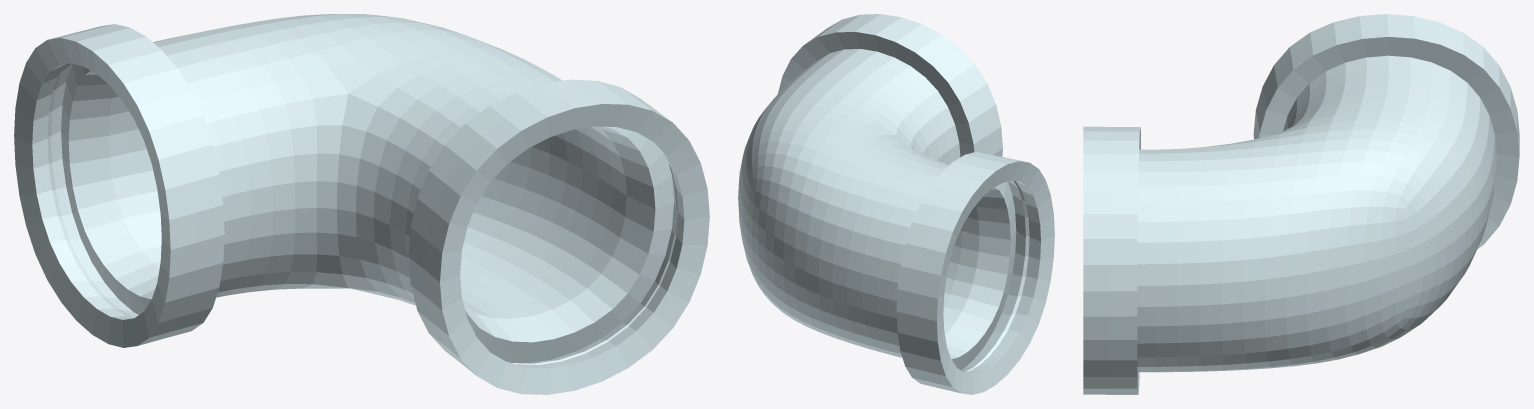
Rendered from egrieklemboru.fbx.
The picture shows the model from 3 angles, left to right: view 1: azimuth 30°, elevation 25°; view 2: azimuth 150°, elevation 25°; view 3: azimuth 270°, elevation 25°; orthographic projection. The views are drawn at different scales.
Visible parts, largest first — view 1: Cube.046; view 2: Cube.046; view 3: Cube.046.
Part boxes in pixels (box(x1,y1,x2,y2)): Cube.046: box(14, 14, 709, 394); Cube.046: box(738, 14, 1054, 394); Cube.046: box(1083, 14, 1519, 394).
Size of the model in its own units: 499 by 506 by 308.
